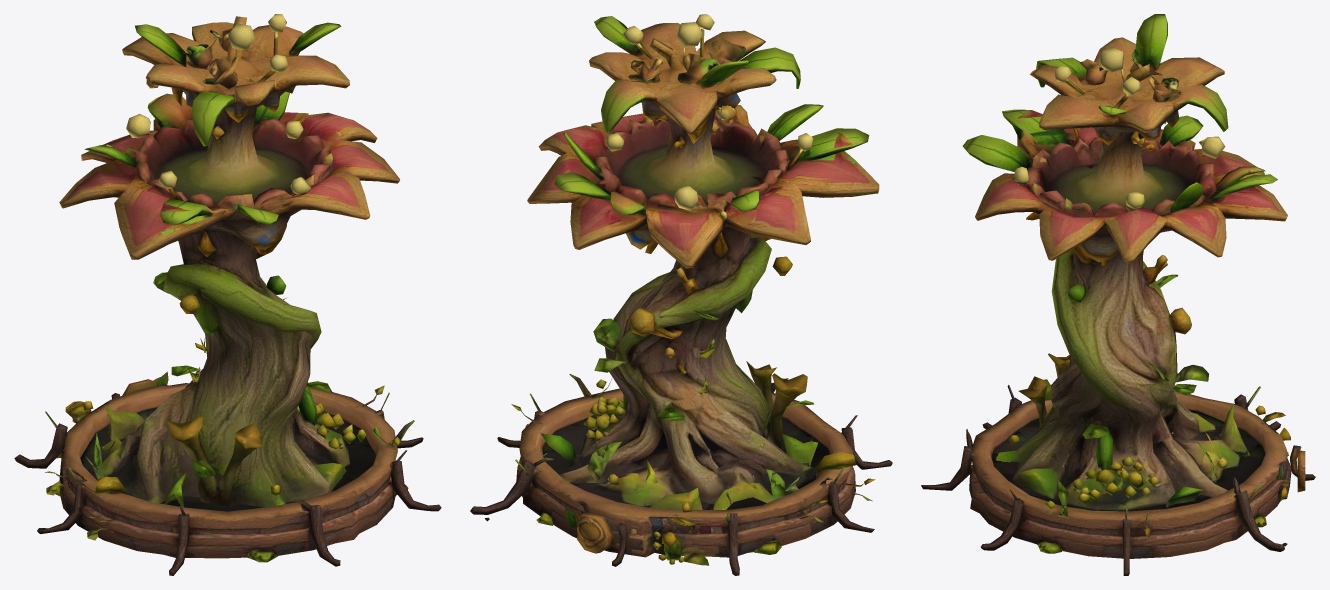
The model's file is lioraen_bloom_spire.glb.
3 views of the same model, side by side, from view 1: azimuth 30°, elevation 25°; view 2: azimuth 150°, elevation 25°; view 3: azimuth 270°, elevation 25° (orthographic). The views are drawn at different scales.
Bounding box in the file's own units: 0.4276 × 0.498 × 0.4022.
Materials: 1 (1 with a texture image).
